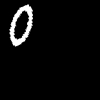chain: (10, 5, 32, 45)
